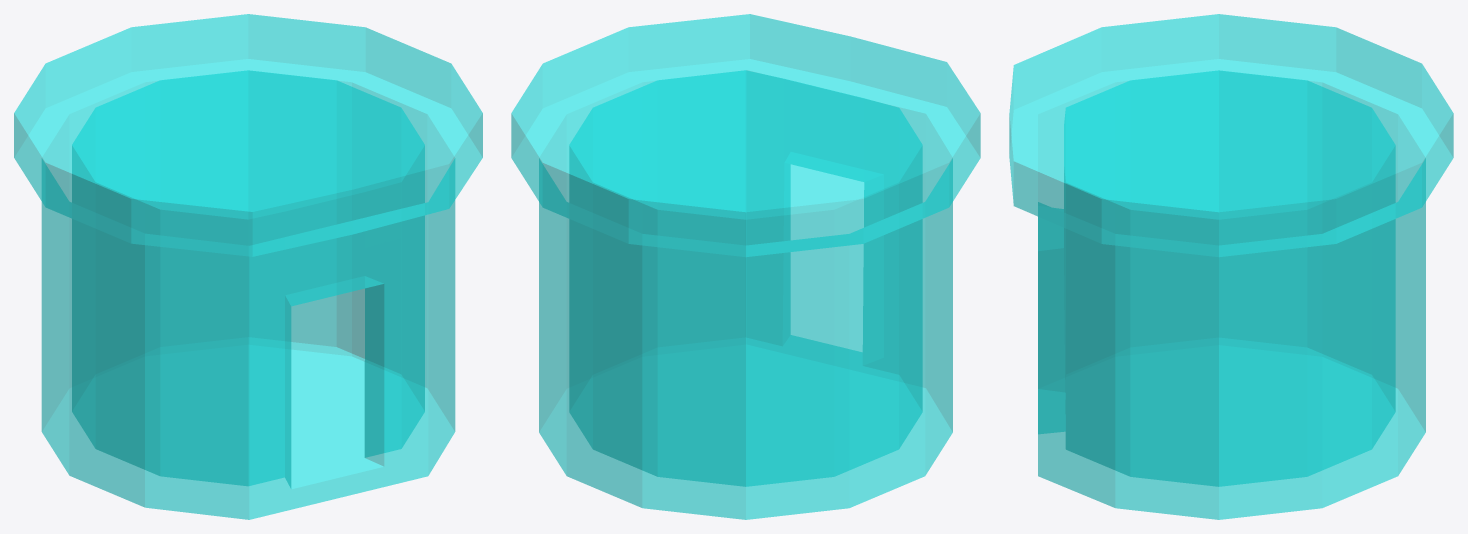
File: SM_Bld_Shed_01_Collision.fbx
3 views of the same model, side by side, from view 1: azimuth 30°, elevation 25°; view 2: azimuth 150°, elevation 25°; view 3: azimuth 270°, elevation 25° (orthographic).
Parts seen in each view (by area): view 1: SM_Bld_Shed_01_Collision; view 2: SM_Bld_Shed_01_Collision; view 3: SM_Bld_Shed_01_Collision.
Part boxes in pixels (box(x1,y1,x2,y2)): SM_Bld_Shed_01_Collision: box(14, 14, 482, 519); SM_Bld_Shed_01_Collision: box(511, 14, 980, 519); SM_Bld_Shed_01_Collision: box(1009, 14, 1453, 519).
Bounding box in the file's own units: 458 × 344 × 434.
